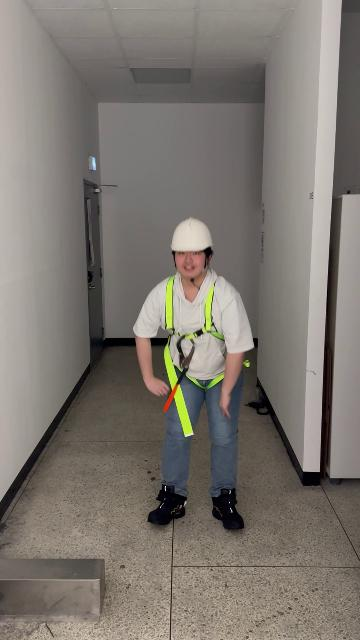helmet_worn: (170, 216, 215, 252)
shoe_worn: (146, 483, 186, 525), (211, 489, 244, 530)
vest_worn: (160, 277, 237, 433)
